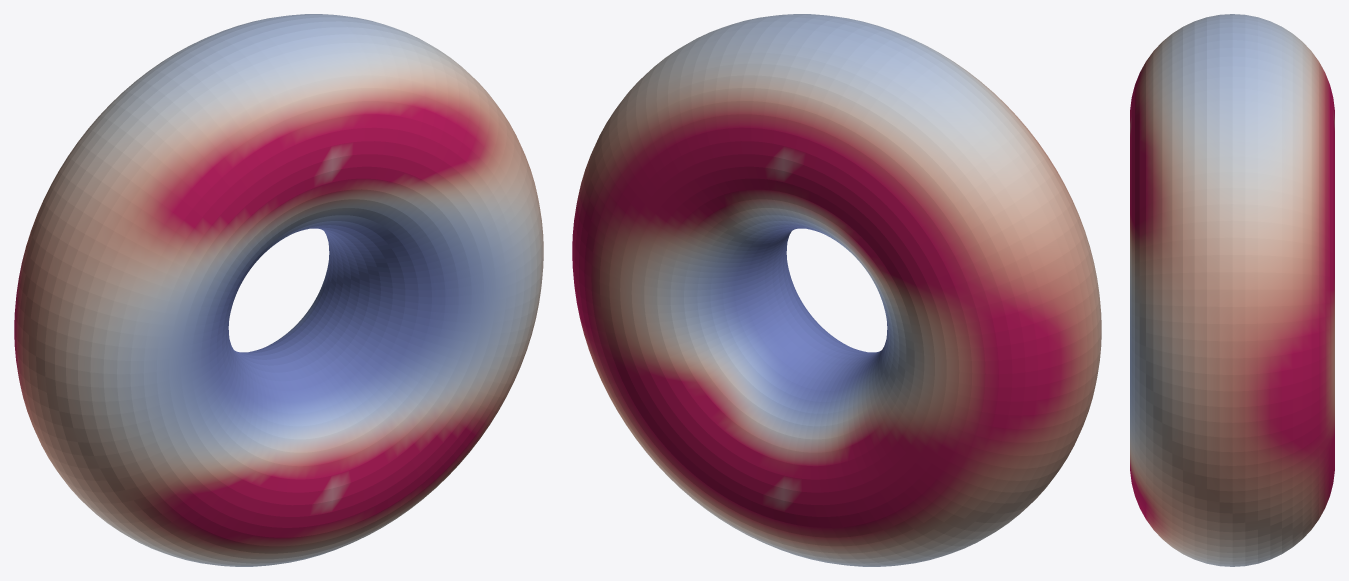
3 views of the same model, side by side, from view 1: azimuth 30°, elevation 25°; view 2: azimuth 150°, elevation 25°; view 3: azimuth 270°, elevation 25° (orthographic). The views are drawn at different scales.
Parts seen in each view (by area): view 1: world; view 2: world; view 3: world.
Boxes of the visible parts, <box> form: world: <box>14,14,543,566</box>; world: <box>572,14,1101,566</box>; world: <box>1130,14,1334,566</box>.
Bounding box in the file's own units: 21.2 × 21.2 × 7.85.
